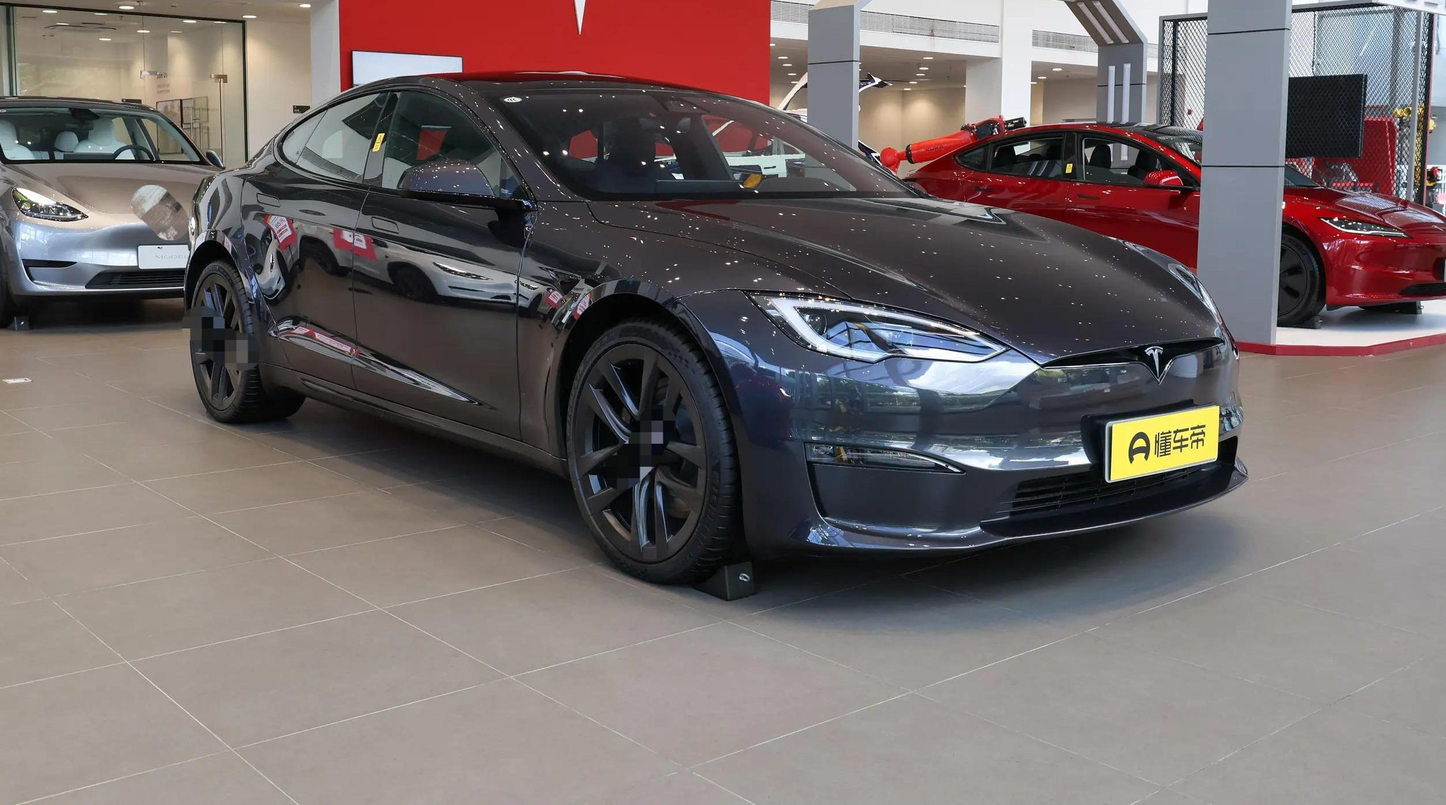Tesla: (1144, 346, 1163, 378)
